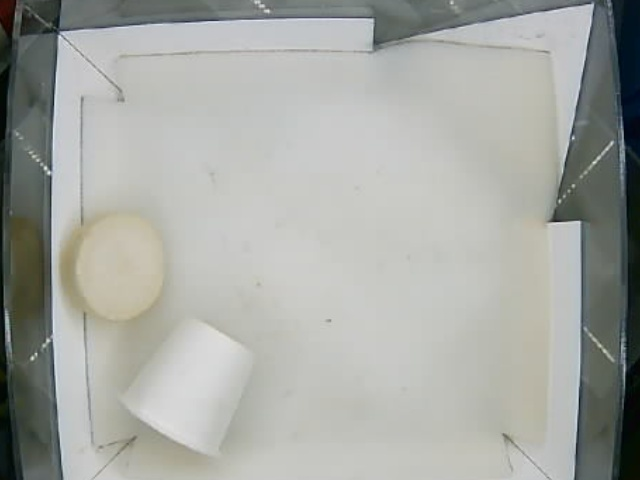Cup: (117, 317, 256, 460)
Mooli: (65, 215, 165, 327)
